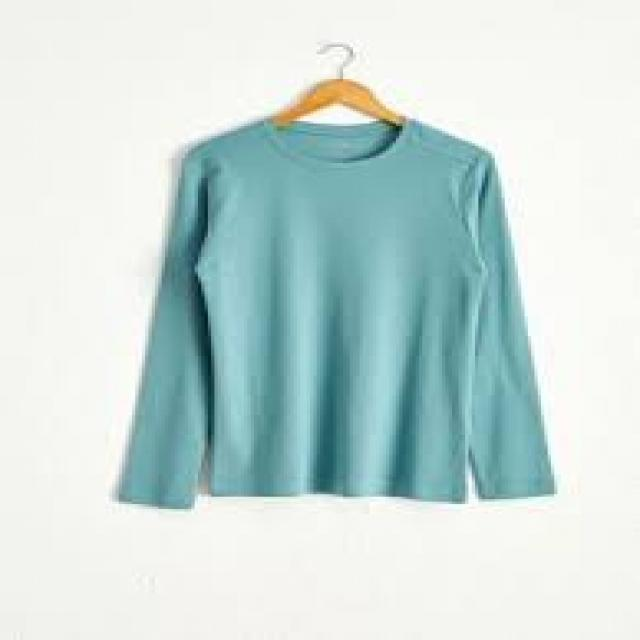plain: (103, 92, 597, 559)
